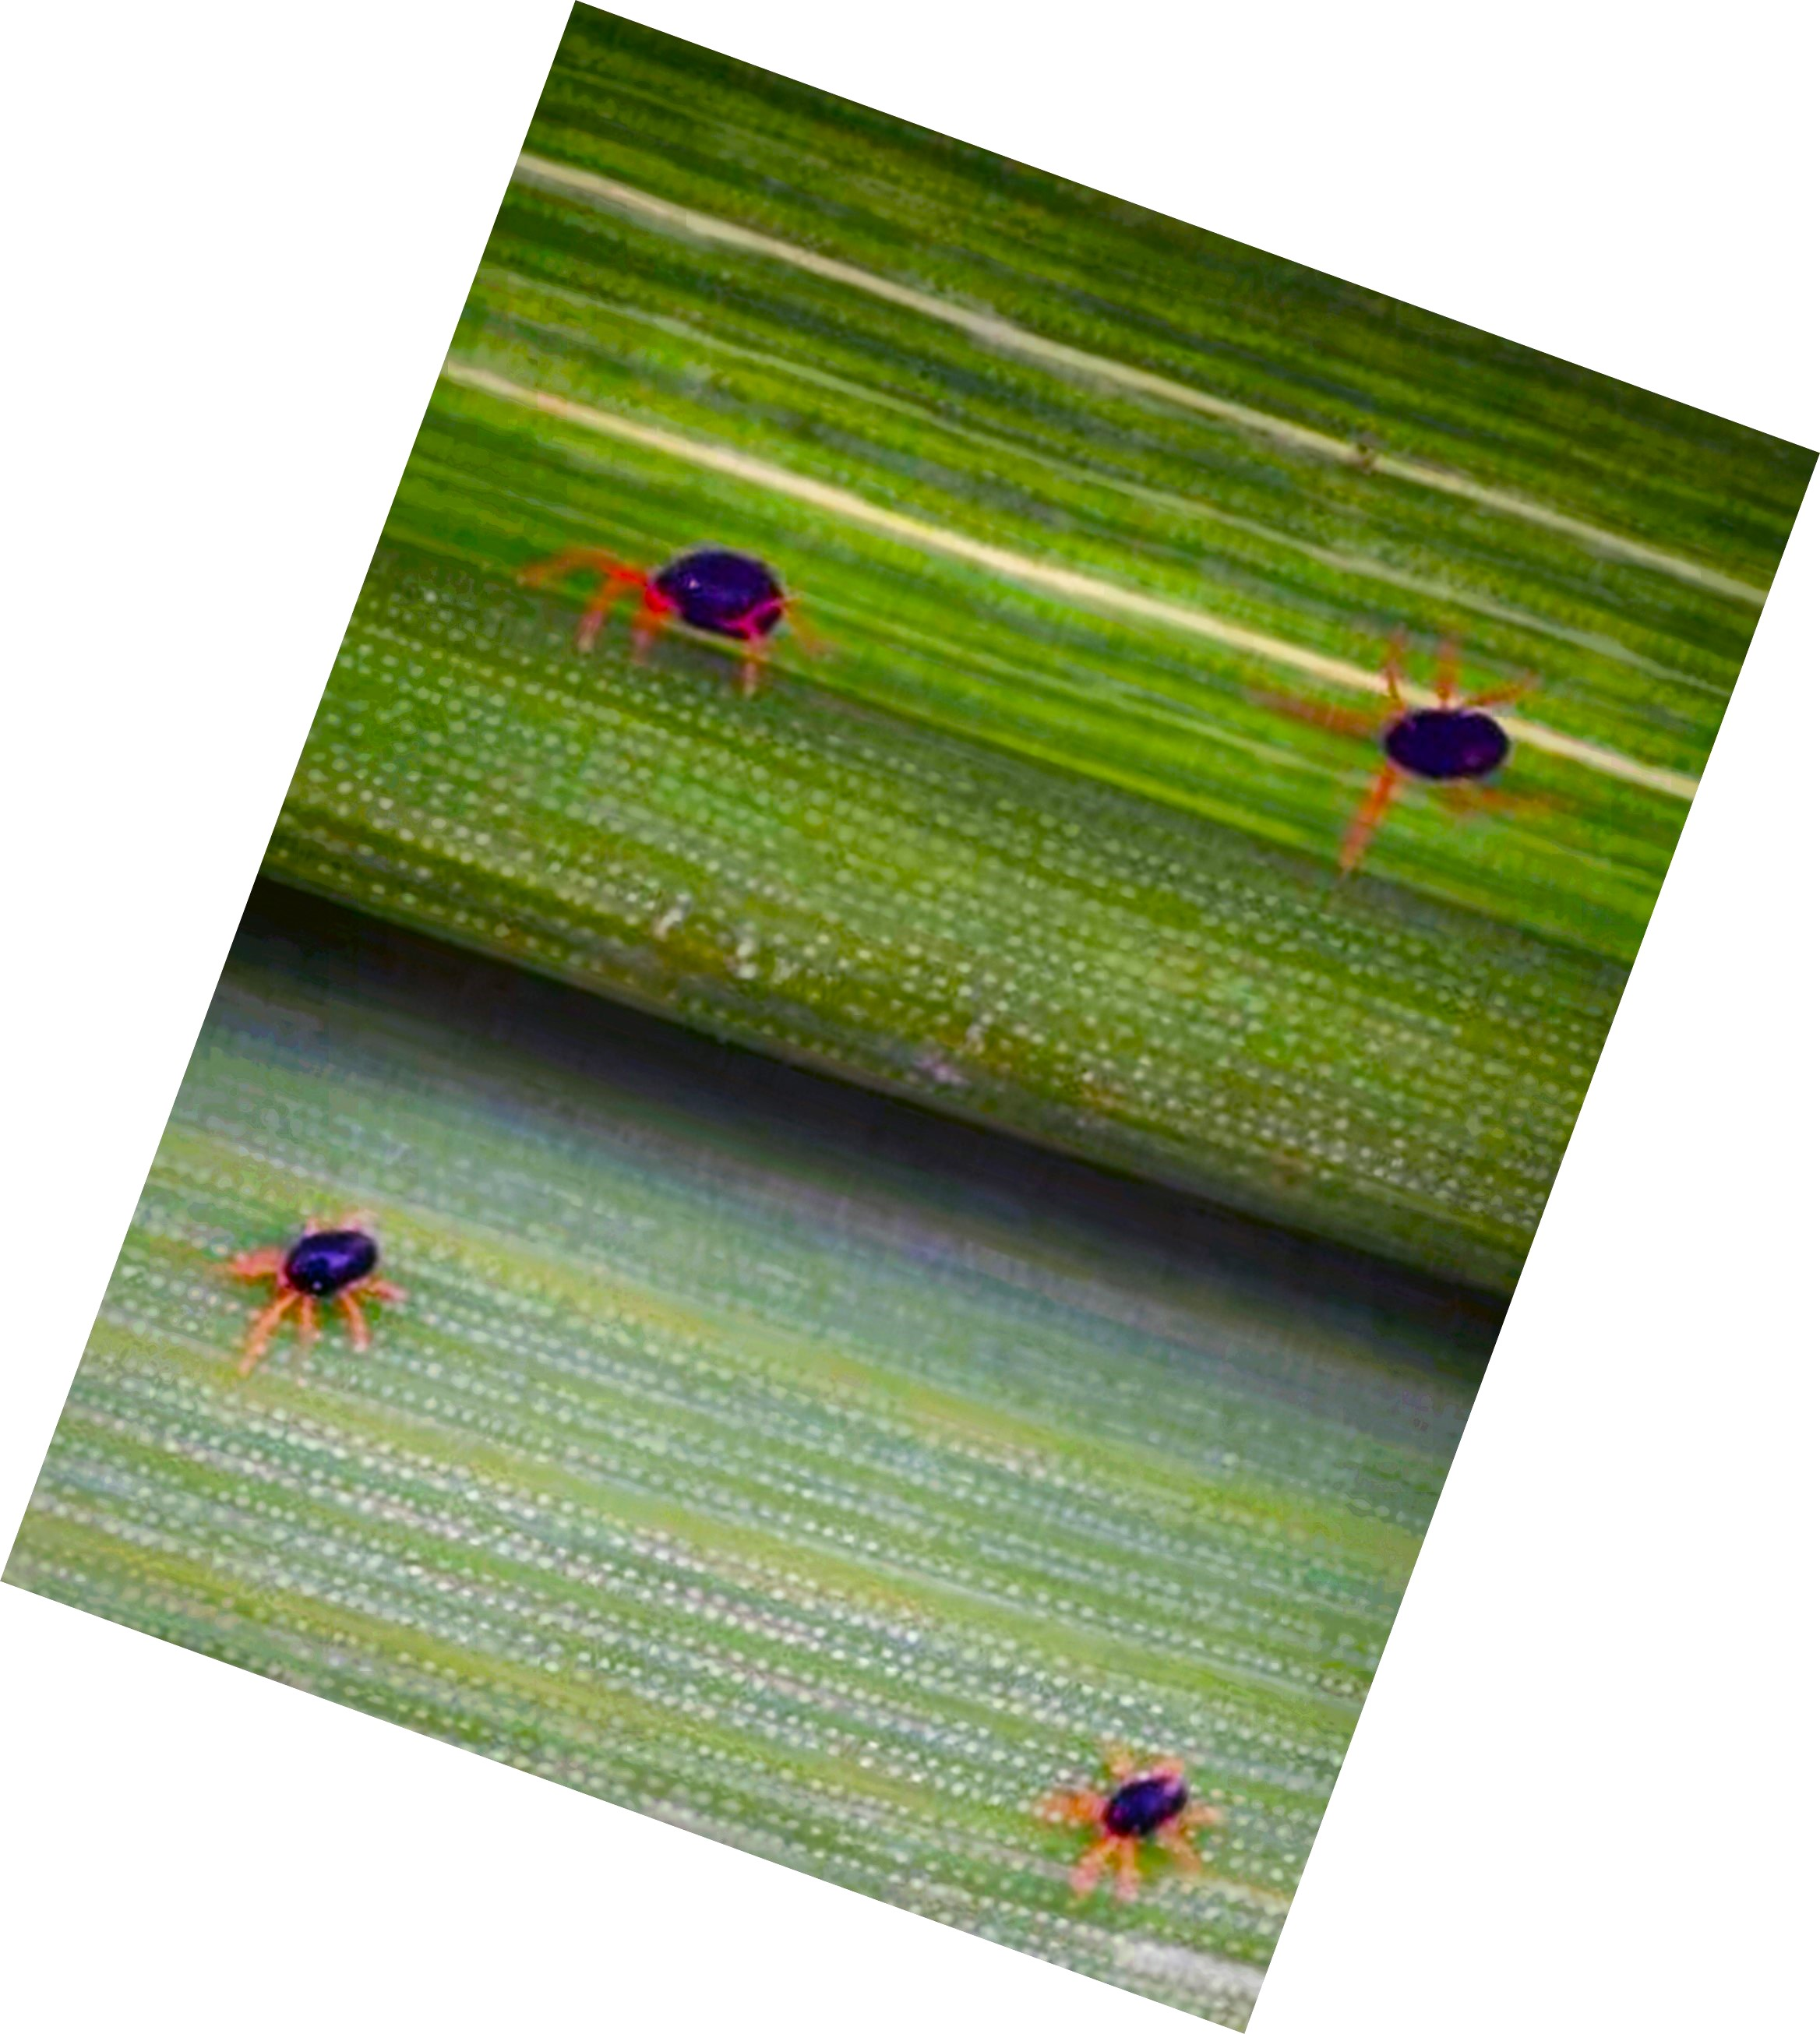Wheat Red Spider: (1231, 606, 1600, 892), (218, 1184, 420, 1426)
